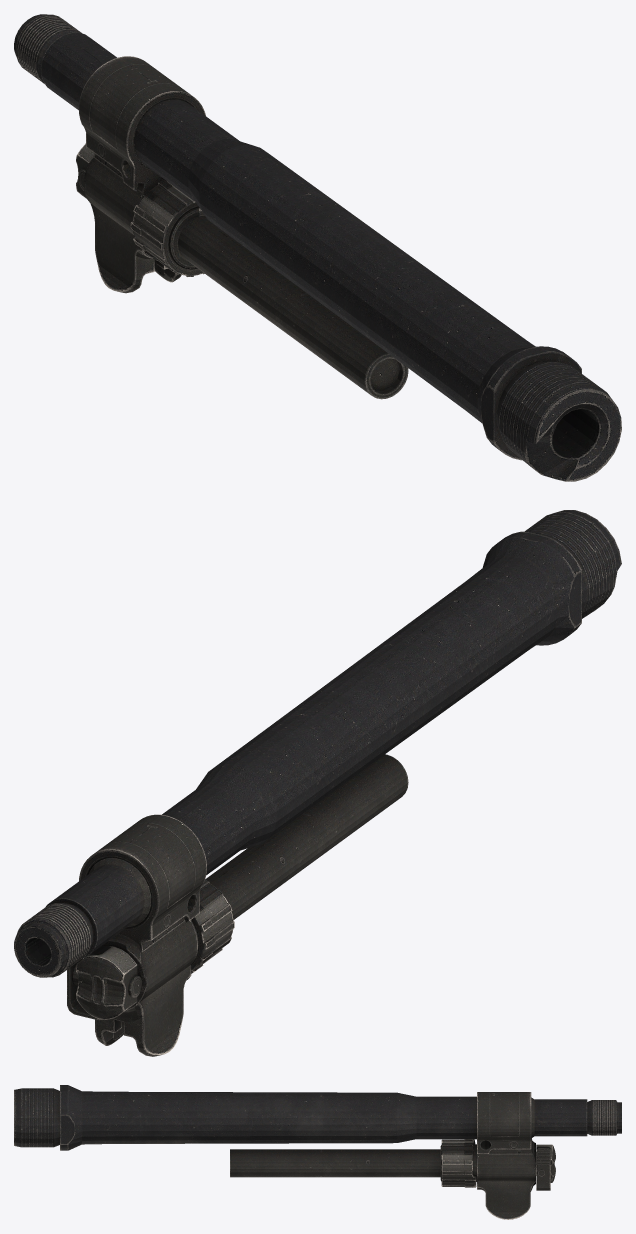
The picture shows the model from 3 angles, top to bottom: view 1: azimuth 30°, elevation 25°; view 2: azimuth 150°, elevation 25°; view 3: azimuth 270°, elevation 25°; orthographic projection. The views are drawn at different scales.
Parts seen in each view (by area): view 1: TW_5b099a765acfc47a8607efe3_PZ_Import; view 2: TW_5b099a765acfc47a8607efe3_PZ_Import; view 3: TW_5b099a765acfc47a8607efe3_PZ_Import.
Boxes of the visible parts, bbox=[...] form: TW_5b099a765acfc47a8607efe3_PZ_Import: bbox=[14, 14, 621, 481]; TW_5b099a765acfc47a8607efe3_PZ_Import: bbox=[14, 510, 621, 1056]; TW_5b099a765acfc47a8607efe3_PZ_Import: bbox=[14, 1085, 621, 1219].
Size of the model in its own units: 0.0156 by 0.162 by 0.0366.
Materials: 1 (1 with a texture image).
